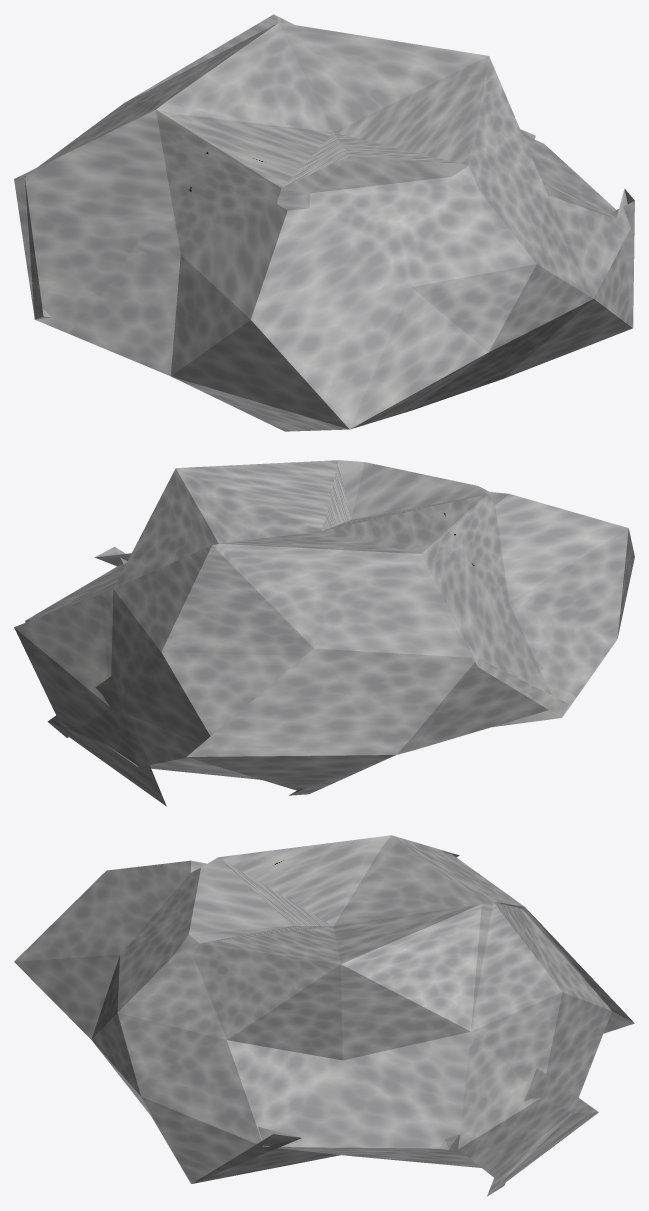
3 views of the same model, one above another, from view 1: azimuth 30°, elevation 25°; view 2: azimuth 150°, elevation 25°; view 3: azimuth 270°, elevation 25° (orthographic). The views are drawn at different scales.
Parts seen in each view (by area): view 1: 바위_03; view 2: 바위_03; view 3: 바위_03.
Boxes of the visible parts, x1,y1,x2,y2 form: 바위_03: (14,14,634,431); 바위_03: (14,460,634,806); 바위_03: (14,835,634,1196).
Size of the model in its own units: 2385 by 1020 by 2638.
1 material, 1 textured.
